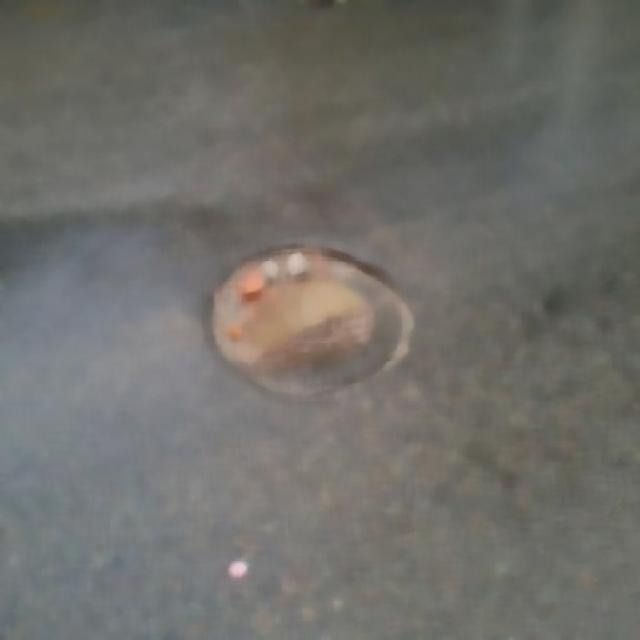Pothole: (209, 230, 420, 408)
